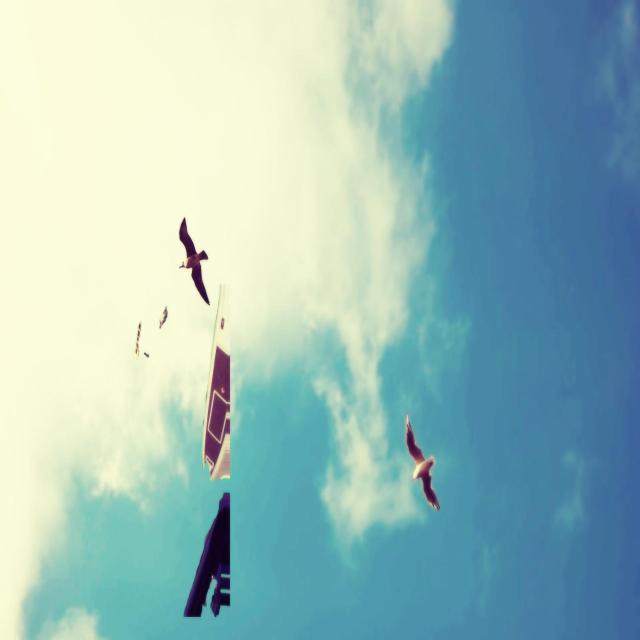airplane: (183, 492, 230, 618), (202, 282, 230, 481)
